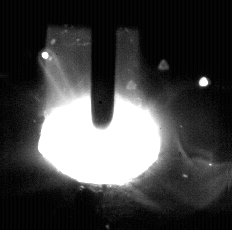arame: (91, 0, 117, 129)
poca: (38, 0, 164, 230)
